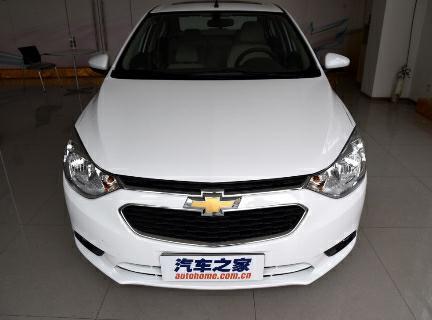雪佛兰-赛欧: (54, 4, 380, 297)
